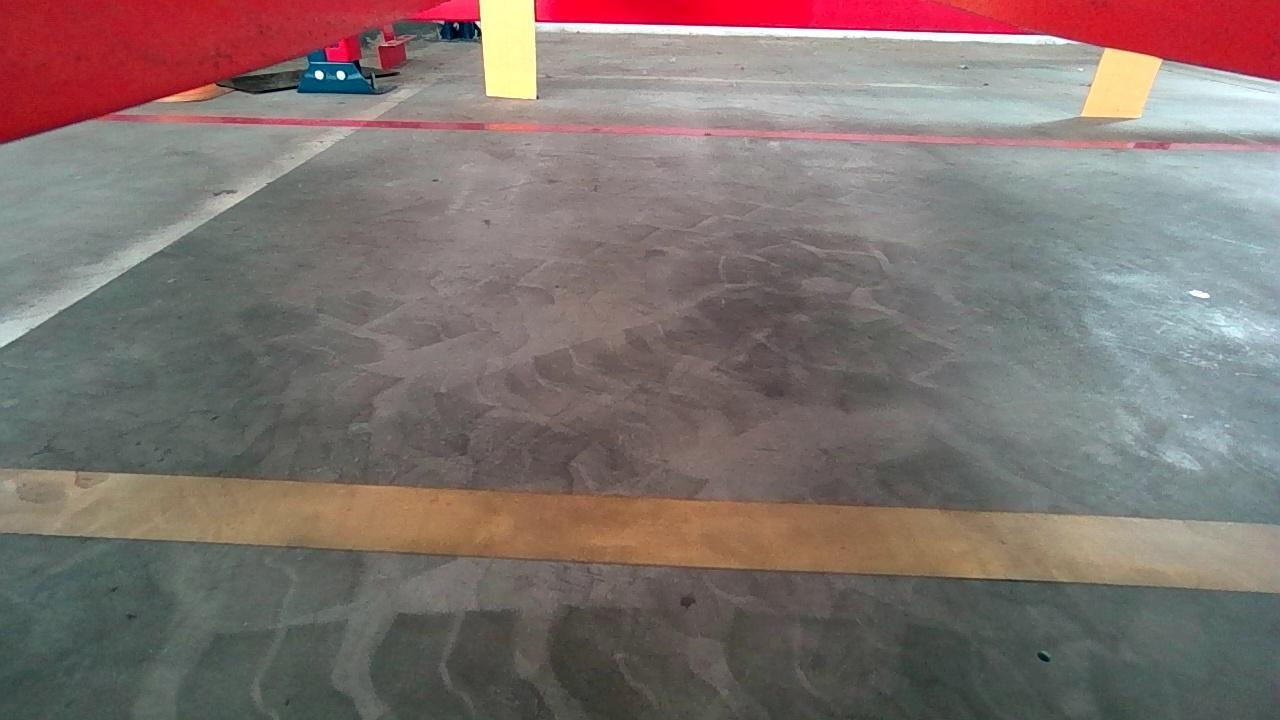h_rack: (407, 0, 1046, 30)
orange_strip: (1082, 48, 1160, 115), (480, 0, 533, 96)
red_line: (89, 111, 1280, 150)
yellow_line: (1, 467, 1280, 593)
